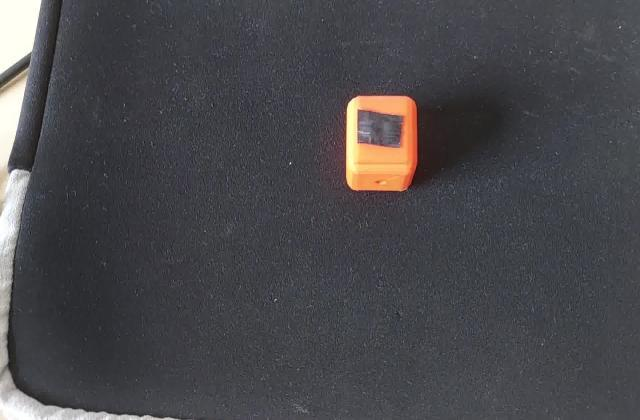black: (353, 108, 410, 152)
sticker: (340, 92, 423, 198)
